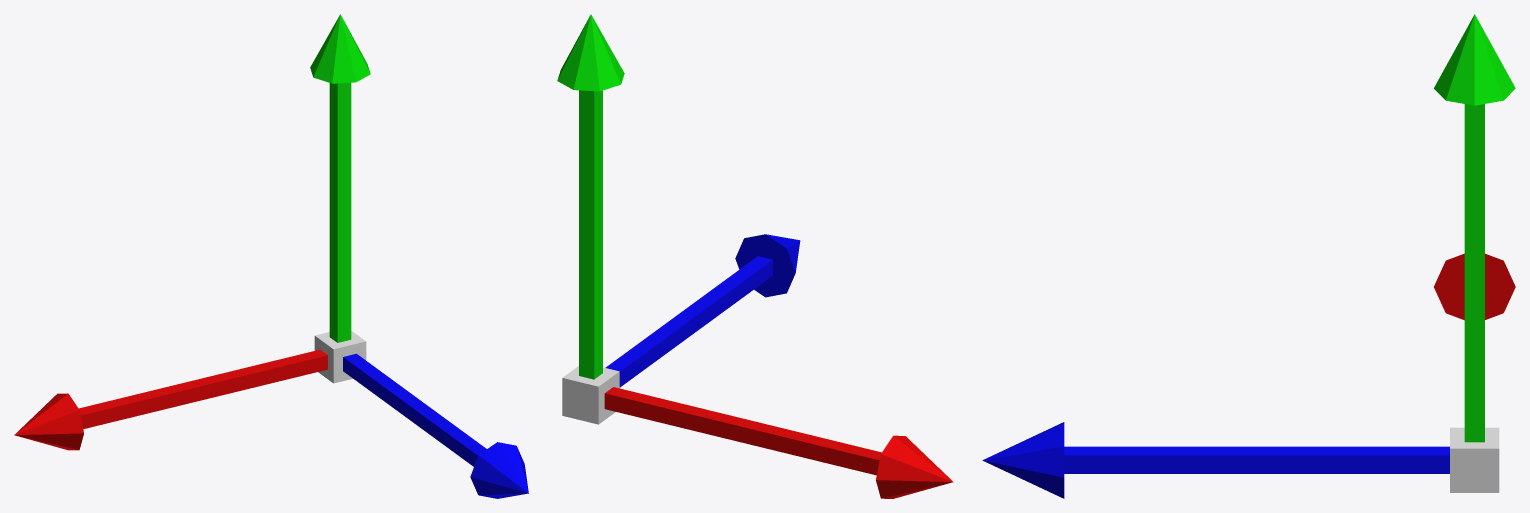
Rendered from 3DarrowsGizmo.fbx.
3 views of the same model, side by side, from view 1: azimuth 30°, elevation 25°; view 2: azimuth 150°, elevation 25°; view 3: azimuth 270°, elevation 25° (orthographic). The views are drawn at different scales.
Parts seen in each view (by area): view 1: Cube.001, Cube.002, Cube, Cone, Cone.002, Cone.001, Cube.003; view 2: Cube.001, Cube.002, Cube, Cone.002, Cone.001, Cone, Cube.003; view 3: Cube, Cube.001, Cone.001, Cone, Cube.003, Cone.002.
Boxes of the visible parts, x1,y1,x2,y2 form: Cube.001: (329, 82, 351, 342); Cube.002: (78, 349, 327, 428); Cube: (343, 353, 486, 466); Cone: (470, 442, 528, 498); Cone.002: (14, 393, 83, 450); Cone.001: (310, 14, 370, 83); Cube.003: (314, 331, 366, 383); Cube.001: (579, 90, 602, 379); Cube.002: (604, 387, 881, 475); Cube: (605, 256, 772, 387); Cone.002: (876, 435, 953, 498); Cone.001: (557, 14, 624, 91); Cone: (735, 234, 800, 297); Cube.003: (562, 366, 619, 424); Cube: (1064, 446, 1449, 473); Cube.001: (1464, 104, 1484, 442); Cone.001: (1434, 14, 1515, 105); Cone: (982, 422, 1064, 498); Cube.003: (1450, 427, 1499, 492); Cone.002: (1434, 253, 1515, 320).
Size of the model in its own units: 1.3 by 1.3 by 1.3.
